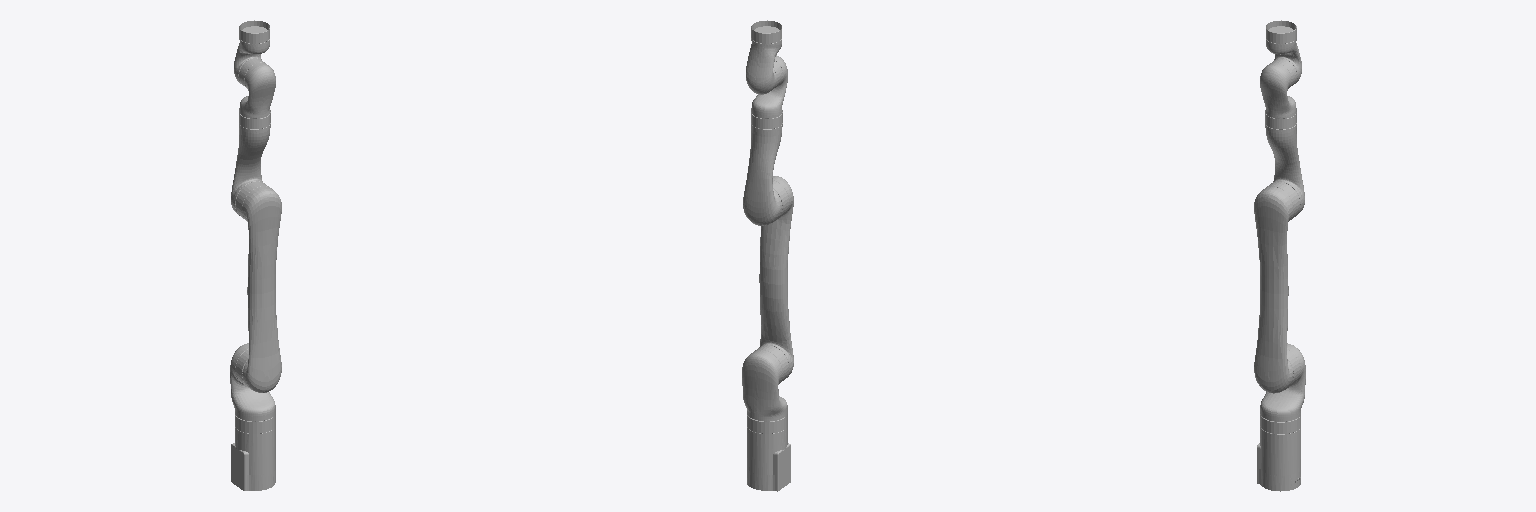
robot.urdf — GEN3-6DOF_NO-VISION_URDF_ARM_V01:
<robot name="GEN3-6DOF_NO-VISION_URDF_ARM_V01" version="1.0">
  <link name="base_link">
    <inertial>
      <origin xyz="-0.000648 -0.000166 0.084487" rpy="0 0 0" />
      <mass value="1.697" />
      <inertia ixx="0.004622" ixy="9E-06" ixz="6E-05" iyy="0.004495" iyz="9E-06" izz="0.002079" />
    </inertial>
    <visual>
      <origin xyz="0 0 0" rpy="0 0 0" />
      <geometry>
        <mesh filename="meshes/base_link.obj" />
      </geometry>
      <material name="">
        <color rgba="0.75294 0.75294 0.75294 1" />
      </material>
    </visual>
    <collision>
      <origin xyz="0 0 0" rpy="0 0 0" />
      <geometry>
        <mesh filename="meshes/base_link.obj" />
      </geometry>
    </collision>
  </link>
  <link name="shoulder_link">
    <inertial>
      <origin xyz="-2.3E-05 -0.010364 -0.07336" rpy="0 0 0" />
      <mass value="1.377" />
      <inertia ixx="0.00457" ixy="1E-06" ixz="2E-06" iyy="0.004831" iyz="0.000448" izz="0.001409" />
    </inertial>
    <visual>
      <origin xyz="0 0 0" rpy="0 0 0" />
      <geometry>
        <mesh filename="meshes/shoulder_link.obj" />
      </geometry>
      <material name="">
        <color rgba="0.75294 0.75294 0.75294 1" />
      </material>
    </visual>
    <collision>
      <origin xyz="0 0 0" rpy="0 0 0" />
      <geometry>
        <mesh filename="meshes/shoulder_link.obj" />
      </geometry>
    </collision>
  </link>
  <joint name="joint_1" type="revolute">
    <origin xyz="0 0 0.15643" rpy="-3.1416 0 0" />
    <parent link="base_link" />
    <child link="shoulder_link" />
    <axis xyz="0 0 1" />
    <limit lower="-1.05" upper="1.05" effort="39" velocity="0.8727" />
  </joint>
  <link name="bicep_link">
    <inertial>
      <origin xyz="3.5E-05 -0.208207 -0.01889" rpy="0 0 0" />
      <mass value="1.262" />
      <inertia ixx="0.046752" ixy="-9E-06" ixz="0" iyy="0.00085" iyz="-9.8E-05" izz="0.047188" />
    </inertial>
    <visual>
      <origin xyz="0 0 0" rpy="0 0 0" />
      <geometry>
        <mesh filename="meshes/bicep_link.obj" />
      </geometry>
      <material name="">
        <color rgba="0.75294 0.75294 0.75294 1" />
      </material>
    </visual>
    <collision>
      <origin xyz="0 0 0" rpy="0 0 0" />
      <geometry>
        <mesh filename="meshes/bicep_link.obj" />
      </geometry>
    </collision>
  </link>
  <joint name="joint_2" type="revolute">
    <origin xyz="0 0.005375 -0.12838" rpy="1.5708 0 0" />
    <parent link="shoulder_link" />
    <child link="bicep_link" />
    <axis xyz="0 0 1" />
    <limit lower="0" upper="2.41" effort="39" velocity="0.8727" />
  </joint>
  <link name="forearm_link">
    <inertial>
      <origin xyz="1.8E-05 0.076168 -0.01397" rpy="0 0 0" />
      <mass value="0.93" />
      <inertia ixx="0.008292" ixy="-1E-06" ixz="0" iyy="0.000628" iyz="0.000432" izz="0.008464" />
    </inertial>
    <visual>
      <origin xyz="0 0 0" rpy="0 0 0" />
      <geometry>
        <mesh filename="meshes/forearm_link.obj" />
      </geometry>
      <material name="">
        <color rgba="0.75294 0.75294 0.75294 1" />
      </material>
    </visual>
    <collision>
      <origin xyz="0 0 0" rpy="0 0 0" />
      <geometry>
        <mesh filename="meshes/forearm_link.obj" />
      </geometry>
    </collision>
  </link>
  <joint name="joint_3" type="revolute">
    <origin xyz="0 -0.41 0" rpy="3.1416 0 0" />
    <parent link="bicep_link" />
    <child link="forearm_link" />
    <axis xyz="0 0 1" />
    <limit lower="-2.66" upper="2.66" effort="39" velocity="0.8727" />
  </joint>
  <link name="spherical_wrist_1_link">
    <inertial>
      <origin xyz="-1E-06 0.008486 -0.062937" rpy="0 0 0" />
      <mass value="0.678" />
      <inertia ixx="0.001645" ixy="0" ixz="0" iyy="0.001666" iyz="-0.000234" izz="0.000389" />
    </inertial>
    <visual>
      <origin xyz="0 0 0" rpy="0 0 0" />
      <geometry>
        <mesh filename="meshes/spherical_wrist_1_link.obj" />
      </geometry>
      <material name="">
        <color rgba="0.75294 0.75294 0.75294 1" />
      </material>
    </visual>
    <collision>
      <origin xyz="0 0 0" rpy="0 0 0" />
      <geometry>
        <mesh filename="meshes/spherical_wrist_1_link.obj" />
      </geometry>
    </collision>
  </link>
  <joint name="joint_4" type="revolute">
    <origin xyz="0 0.20843 -0.006375" rpy="1.5708 0 0" />
    <parent link="forearm_link" />
    <child link="spherical_wrist_1_link" />
    <axis xyz="0 0 1" />
    <limit lower="-3.14" upper="3.14" effort="9" velocity="0.8727" />
  </joint>
  <link name="spherical_wrist_2_link">
    <inertial>
      <origin xyz="-1E-06 0.046429 -0.008704" rpy="0 0 0" />
      <mass value="0.678" />
      <inertia ixx="0.001685" ixy="0" ixz="0" iyy="0.0004" iyz="0.000255" izz="0.001696" />
    </inertial>
    <visual>
      <origin xyz="0 0 0" rpy="0 0 0" />
      <geometry>
        <mesh filename="meshes/spherical_wrist_2_link.obj" />
      </geometry>
      <material name="">
        <color rgba="0.75294 0.75294 0.75294 1" />
      </material>
    </visual>
    <collision>
      <origin xyz="0 0 0" rpy="0 0 0" />
      <geometry>
        <mesh filename="meshes/spherical_wrist_2_link.obj" />
      </geometry>
    </collision>
  </link>
  <joint name="joint_5" type="revolute">
    <origin xyz="0 -0.00017505 -0.10593" rpy="-1.5708 0 0" />
    <parent link="spherical_wrist_1_link" />
    <child link="spherical_wrist_2_link" />
    <axis xyz="0 0 1" />
    <limit lower="-2.23" upper="2.23" effort="9" velocity="0.8727" />
  </joint>
  <link name="bracelet_link">
    <inertial>
      <origin xyz="-9.3E-05 0.000132 -0.022905" rpy="0 0 0" />
      <mass value="0.364" />
      <inertia ixx="0.000214" ixy="0" ixz="1E-06" iyy="0.000223" iyz="-2E-06" izz="0.00024" />
    </inertial>
    <visual>
      <origin xyz="0 0 0" rpy="0 0 0" />
      <geometry>
        <mesh filename="meshes/bracelet_no_vision_link.obj" />
      </geometry>
      <material name="">
        <color rgba="0.75294 0.75294 0.75294 1" />
      </material>
    </visual>
    <collision>
      <origin xyz="0 0 0" rpy="0 0 0" />
      <geometry>
        <mesh filename="meshes/bracelet_no_vision_link.obj" />
      </geometry>
    </collision>
  </link>
  <joint name="joint_6" type="revolute">
    <origin xyz="0 0.10593 -0.00017505" rpy="1.5708 0 0" />
    <parent link="spherical_wrist_2_link" />
    <child link="bracelet_link" />
    <axis xyz="0 0 1" />
    <limit lower="-1.57" upper="1.57" effort="9" velocity="0.8727" />
  </joint>
  <link name="EndEffector_Link" />
  <joint name="EndEffector" type="fixed">
    <origin xyz="0 0 -0.061525" rpy="0 0 0" />
    <parent link="bracelet_link" />
    <child link="EndEffector_Link" />
    <axis xyz="0 0 0" />
  </joint>
</robot>

--- Facts derived from the render (not from the file) ---
Views: 3 orthographic renders of the robot side by side, from view 1: azimuth 30°, elevation 25°; view 2: azimuth 150°, elevation 25°; view 3: azimuth 330°, elevation 25°.
Robot: GEN3-6DOF_NO-VISION_URDF_ARM_V01 — 8 links, 7 joints (6 revolute, 1 fixed); root link base_link; default pose: all joints at 0.
Links seen in each view (by area): view 1: bicep_link, base_link, forearm_link, shoulder_link, spherical_wrist_1_link, spherical_wrist_2_link; view 2: bicep_link, forearm_link, base_link, shoulder_link, spherical_wrist_2_link, spherical_wrist_1_link; view 3: bicep_link, base_link, forearm_link, shoulder_link, spherical_wrist_1_link, spherical_wrist_2_link.
Link boxes in pixels (bbox=[...]): bicep_link: bbox=[236, 181, 281, 392]; base_link: bbox=[231, 414, 275, 490]; forearm_link: bbox=[231, 112, 270, 215]; shoulder_link: bbox=[230, 343, 275, 421]; spherical_wrist_1_link: bbox=[239, 58, 275, 118]; spherical_wrist_2_link: bbox=[234, 20, 269, 83]; bicep_link: bbox=[759, 176, 793, 377]; forearm_link: bbox=[743, 112, 782, 225]; base_link: bbox=[747, 414, 790, 491]; shoulder_link: bbox=[742, 345, 788, 421]; spherical_wrist_2_link: bbox=[746, 20, 781, 94]; spherical_wrist_1_link: bbox=[751, 55, 787, 118]; bicep_link: bbox=[1254, 182, 1299, 393]; base_link: bbox=[1257, 414, 1300, 491]; forearm_link: bbox=[1265, 112, 1304, 213]; shoulder_link: bbox=[1260, 343, 1305, 421]; spherical_wrist_1_link: bbox=[1260, 58, 1296, 118]; spherical_wrist_2_link: bbox=[1266, 20, 1301, 83].
Size in the robot's own frame: 0.0928 by 0.1127 by 1.13 metres.
Meshes: 7 distinct files referenced, 6 mesh visuals loaded (6 OBJ); not drawn: 1 (reference not matched to a file when rendering).